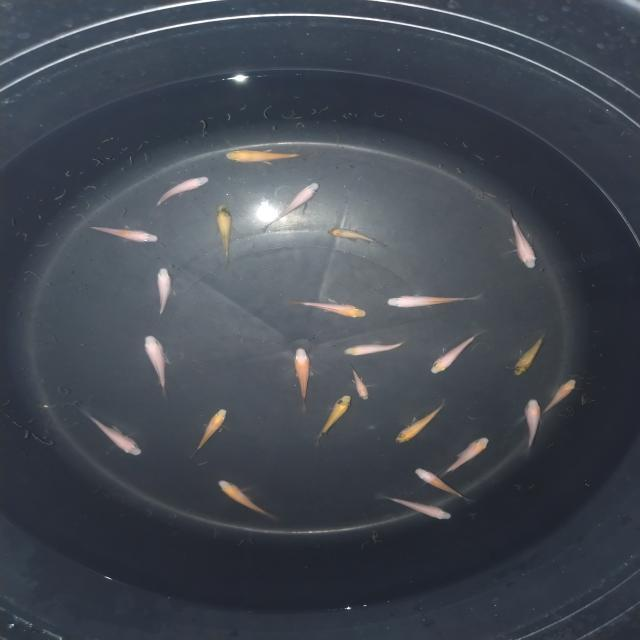nila: (257, 180, 323, 237), (71, 406, 146, 456), (212, 478, 278, 522), (436, 436, 491, 482), (427, 330, 482, 375), (501, 203, 537, 270), (412, 466, 473, 505), (393, 402, 447, 446), (147, 174, 209, 212), (368, 494, 452, 520), (140, 334, 170, 402), (286, 295, 369, 319), (314, 391, 352, 443), (510, 331, 550, 377), (82, 220, 162, 243), (224, 146, 322, 164), (194, 407, 232, 453), (212, 201, 235, 273), (540, 377, 578, 420), (518, 396, 544, 456), (336, 338, 407, 359), (379, 294, 481, 308), (292, 346, 314, 409), (319, 227, 385, 247), (152, 264, 174, 322), (346, 366, 372, 400)
